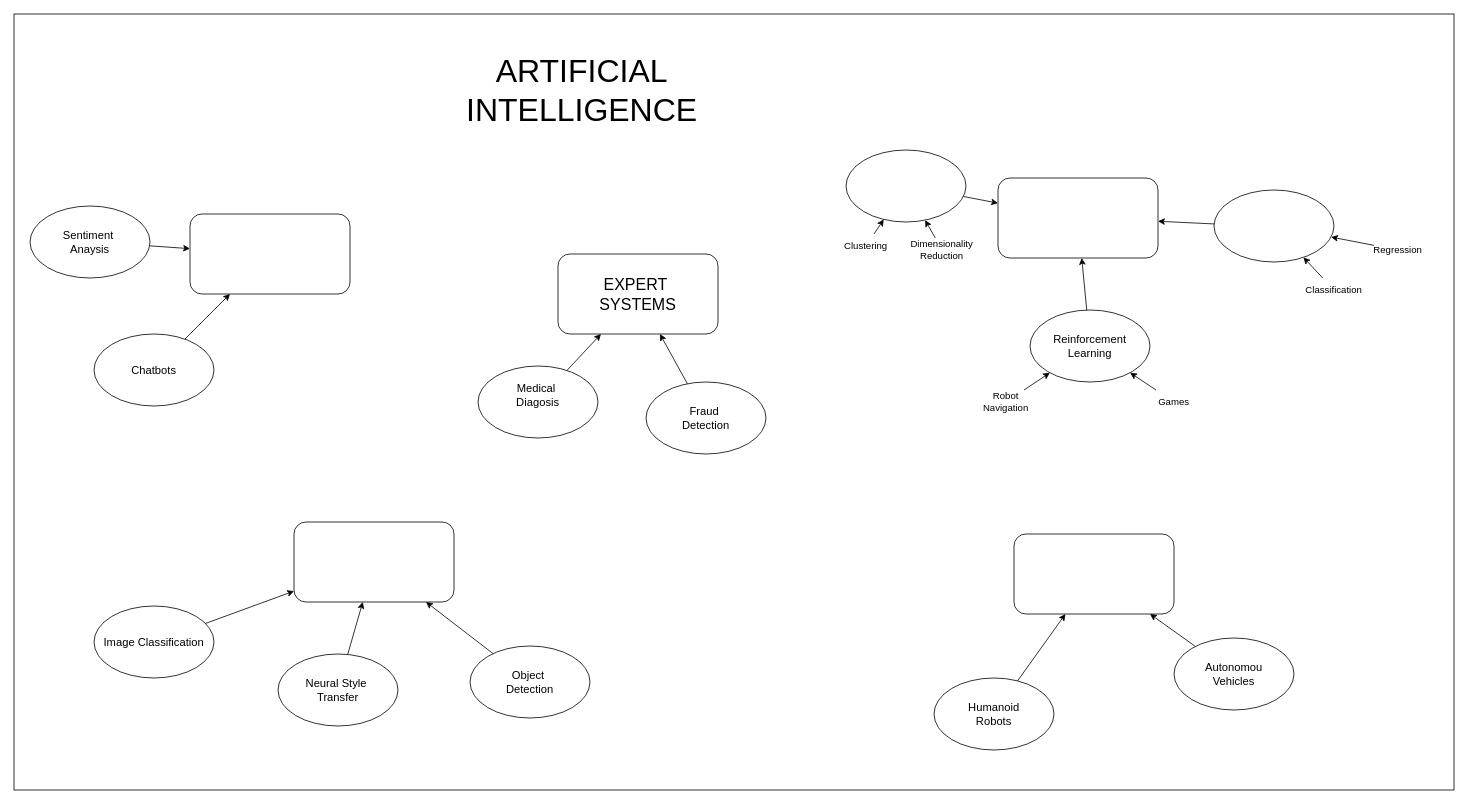
Some shapes in this 1468 by 804 pixel diagram are drawn without their labels. The box of each missing label's shape, as (x1, y1, x2, y2) in pixels:
COMPUTER VISION: (293, 521, 454, 602)
MACHINE LEARNING: (997, 177, 1158, 258)
NATURAL LANGUAGE PROCESSING: (189, 213, 350, 294)
ROBOTICS: (1013, 533, 1174, 614)
Supervised Learning: (1213, 189, 1334, 262)
Unsupervised Learning: (845, 149, 966, 222)
